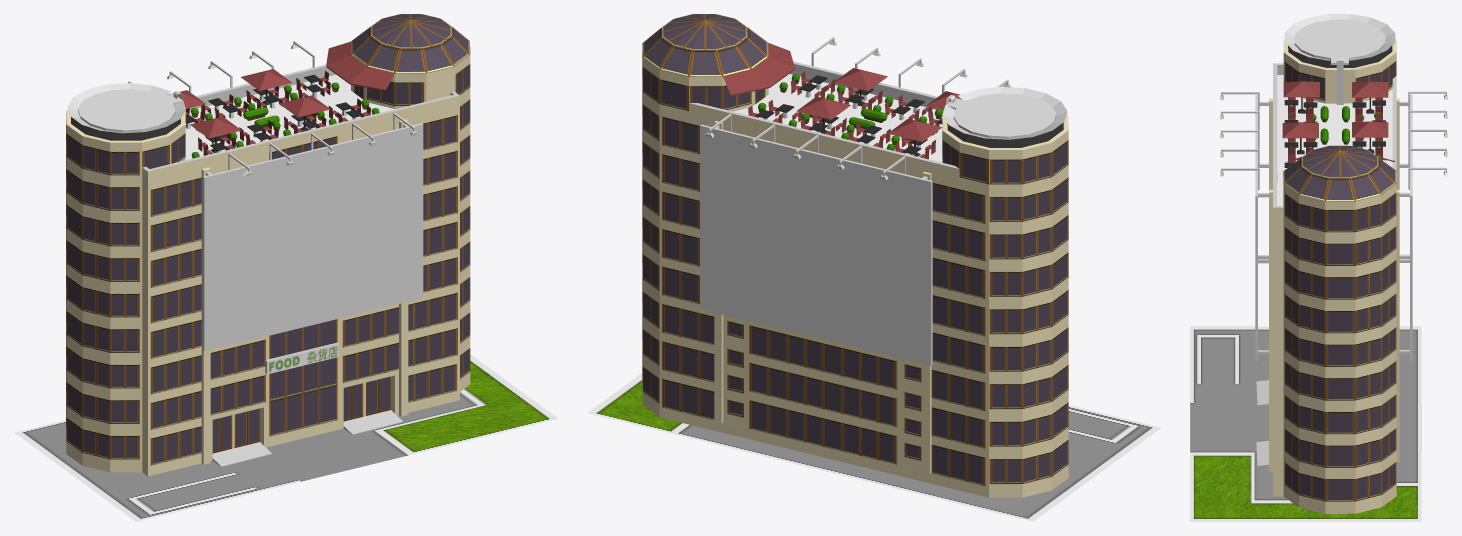
The model's file is Supermarket_Huge.fbx.
3 views of the same model, side by side, from view 1: azimuth 30°, elevation 25°; view 2: azimuth 150°, elevation 25°; view 3: azimuth 270°, elevation 25° (orthographic). The views are drawn at different scales.
Visible parts, largest first — view 1: Supermarket_Huge, Billboard_On_Huge_Poster_002, Supermarket_BG_Huge, Supermarket_Huge.001, Billboard_On_Huge_002, HelicopterPlace, HelicopterPlace_Alpha_DoubleSided; view 2: Supermarket_Huge, Billboard_On_Huge_Poster_001, Supermarket_BG_Huge, Supermarket_Huge.001, Billboard_On_Huge_001, HelicopterPlace, HelicopterPlace_Alpha_DoubleSided, Billboard_On_Huge_002; view 3: Supermarket_Huge, Supermarket_BG_Huge, Supermarket_Huge.001, HelicopterPlace, Billboard_On_Huge_002, Billboard_On_Huge_001, HelicopterPlace_Alpha_DoubleSided.
Part boxes in pixels (<box>): Supermarket_Huge: <box>66,14,470,476</box>; Billboard_On_Huge_Poster_002: <box>208,129,419,346</box>; Supermarket_BG_Huge: <box>14,354,558,521</box>; Supermarket_Huge.001: <box>168,41,394,155</box>; Billboard_On_Huge_002: <box>203,113,423,351</box>; HelicopterPlace: <box>78,89,182,132</box>; HelicopterPlace_Alpha_DoubleSided: <box>67,83,185,133</box>; Supermarket_Huge: <box>642,14,1068,497</box>; Billboard_On_Huge_Poster_001: <box>704,131,926,360</box>; Supermarket_BG_Huge: <box>587,373,1161,521</box>; Supermarket_Huge.001: <box>723,43,961,159</box>; Billboard_On_Huge_001: <box>700,113,932,365</box>; HelicopterPlace: <box>946,93,1056,138</box>; HelicopterPlace_Alpha_DoubleSided: <box>942,87,1067,139</box>; Billboard_On_Huge_002: <box>811,37,1012,93</box>; Supermarket_Huge: <box>1256,38,1399,513</box>; Supermarket_BG_Huge: <box>1190,326,1421,521</box>; Supermarket_Huge.001: <box>1282,81,1394,167</box>; HelicopterPlace: <box>1294,19,1385,64</box>; Billboard_On_Huge_002: <box>1220,92,1268,361</box>; Billboard_On_Huge_001: <box>1399,91,1447,360</box>; HelicopterPlace_Alpha_DoubleSided: <box>1284,14,1395,104</box>.
Size of the model in its own units: 4000 by 3239 by 2228.
